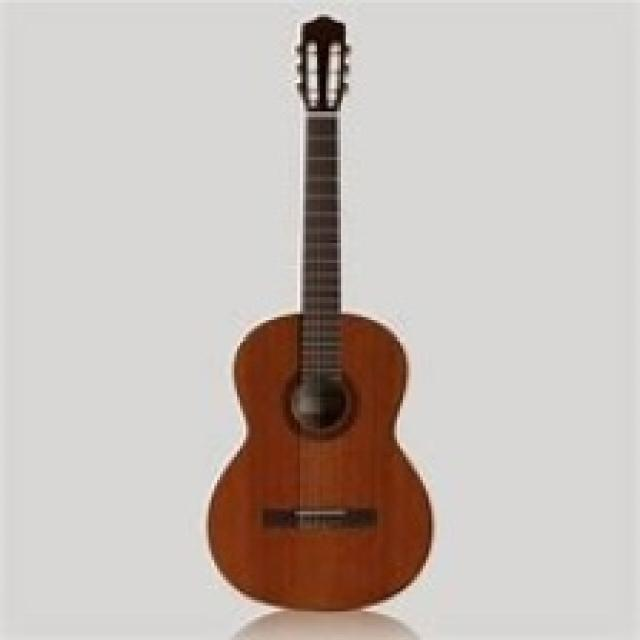acousticguitar: (208, 16, 431, 609)
